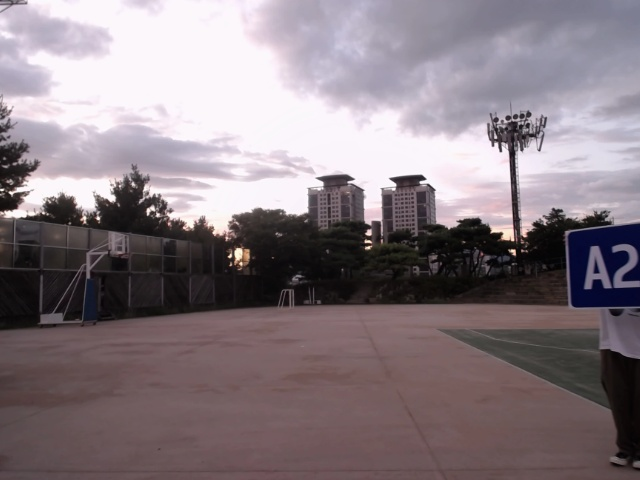delivery_a2: (567, 219, 639, 308)
